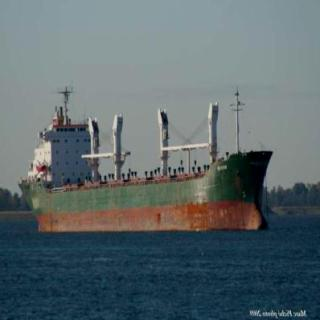Bulk Carrier: (8, 87, 284, 235)
